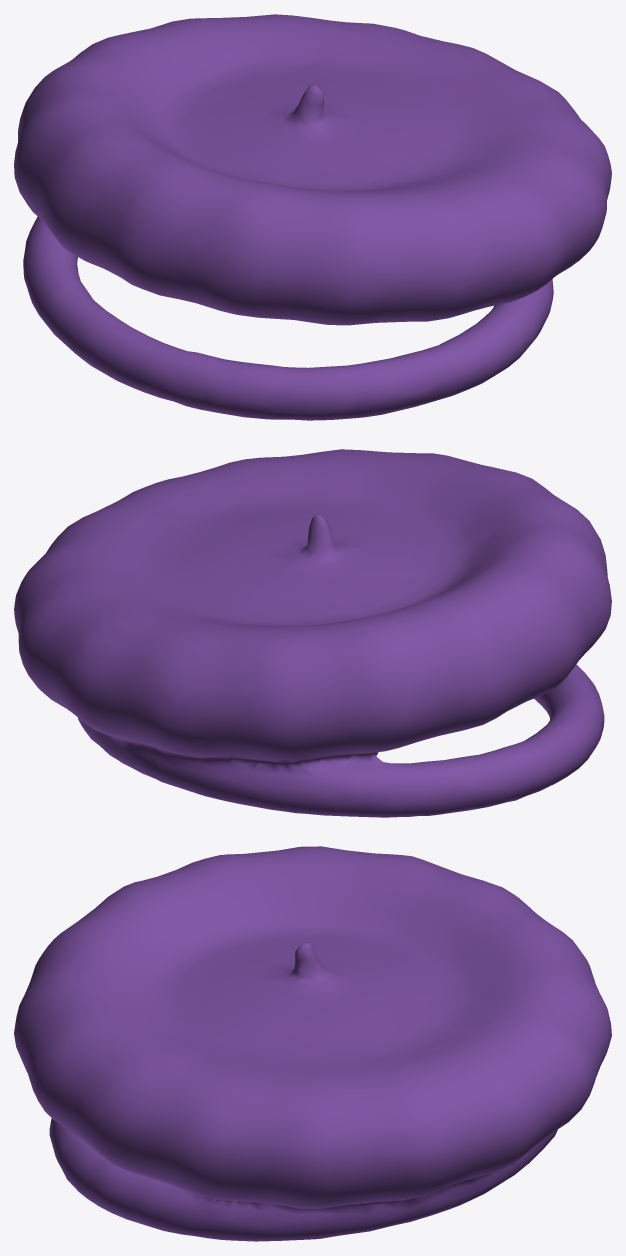
The model's file is beret_f.glb.
The picture shows the model from 3 angles, top to bottom: view 1: azimuth 30°, elevation 25°; view 2: azimuth 150°, elevation 25°; view 3: azimuth 270°, elevation 25°; orthographic projection. The views are drawn at different scales.
Parts seen in each view (by area): view 1: Acc_beret_Beret; view 2: Acc_beret_Beret; view 3: Acc_beret_Beret.
Boxes of the visible parts, x1,y1,x2,y2 form: Acc_beret_Beret: [14, 14, 611, 420]; Acc_beret_Beret: [14, 449, 611, 817]; Acc_beret_Beret: [14, 846, 611, 1241].
Bounding box in the file's own units: 0.3459 × 0.1465 × 0.3525.
